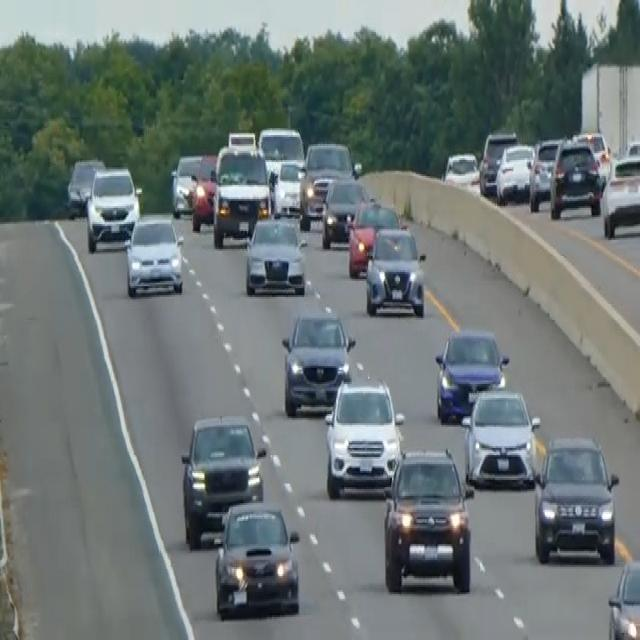car: (180, 410, 266, 546), (532, 434, 619, 564), (213, 498, 300, 618), (323, 375, 404, 498), (280, 306, 355, 416), (461, 386, 541, 489), (434, 325, 509, 423), (364, 224, 426, 316), (244, 213, 307, 295), (299, 138, 358, 225), (124, 213, 184, 297), (85, 164, 141, 250), (345, 195, 399, 278), (549, 137, 601, 219), (320, 174, 368, 247), (600, 150, 639, 238), (257, 124, 304, 180), (528, 135, 562, 212), (607, 558, 639, 638), (494, 140, 534, 204), (479, 130, 517, 196), (66, 156, 105, 217), (572, 128, 611, 187), (190, 151, 217, 231), (271, 156, 305, 217), (170, 153, 202, 217), (442, 150, 480, 188), (227, 128, 256, 148)
jeep: (382, 444, 475, 594)
